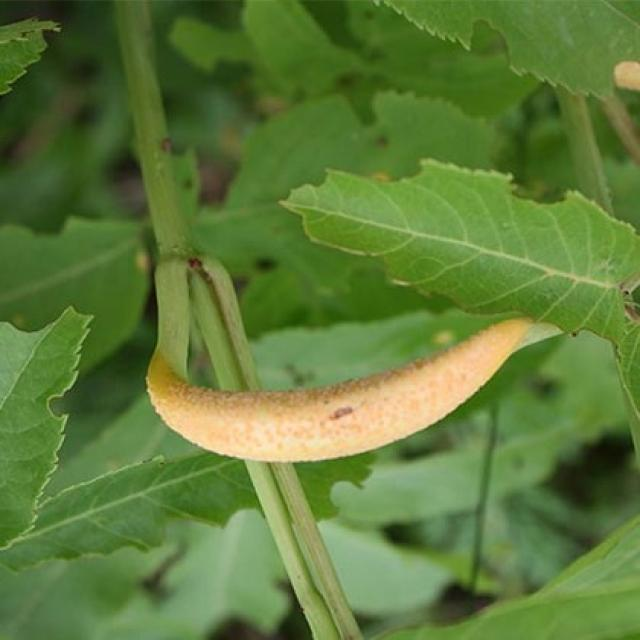Elderberry_rust: (142, 313, 556, 464)
